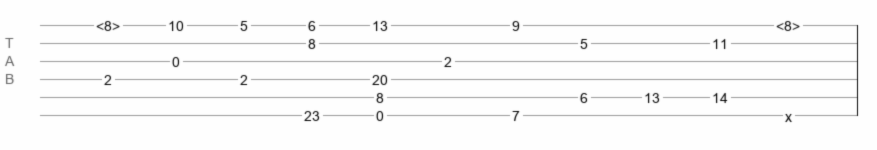0: (172, 54, 180, 64), (376, 108, 384, 118)
10: (168, 18, 184, 28)
11: (712, 36, 728, 46)
13: (372, 18, 388, 28), (644, 90, 660, 100)
14: (712, 90, 728, 100)
2: (104, 72, 112, 82), (240, 72, 248, 82), (444, 54, 452, 64)
20: (372, 72, 388, 82)
23: (304, 108, 320, 118)
5: (240, 18, 248, 28), (580, 36, 588, 46)
6: (308, 18, 316, 28), (580, 90, 588, 100)
7: (512, 108, 520, 118)
8: (308, 36, 316, 46), (376, 90, 384, 100)
9: (512, 18, 520, 28)
harmonic: (96, 18, 120, 28), (776, 18, 800, 28)
x: (785, 109, 792, 117)
